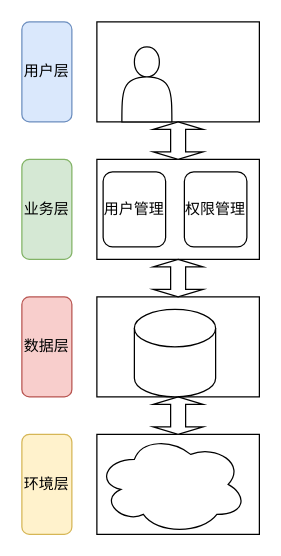
This 281x556 diagram has some shape labels left out. The shapes that lost their labels are listed below. From the top down, each one's centre as x and y in pixels, then its label:
the point at 174,352: PostgreSQL
the point at 171,483: Docker
